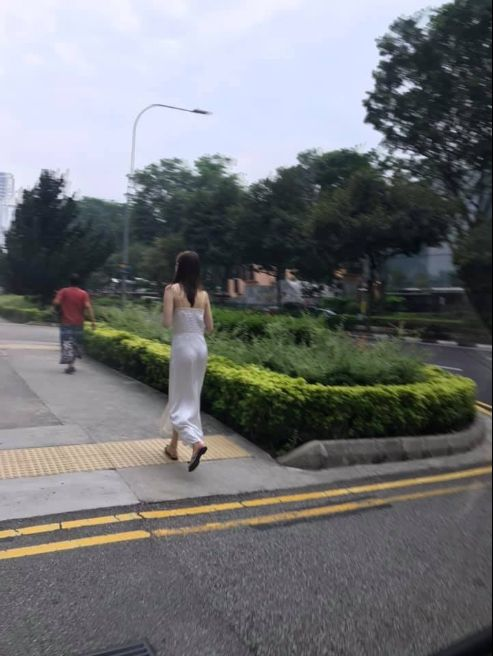people: (157, 250, 215, 471), (49, 273, 93, 374)
